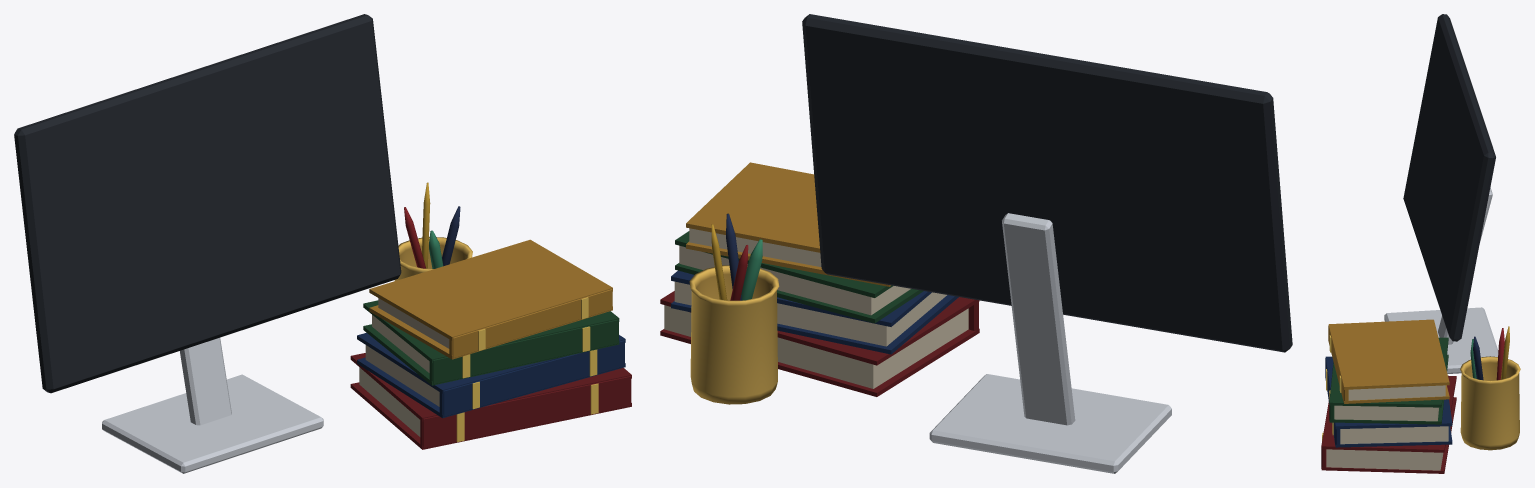
File: lib_desk_clutter_aaa-905adfbd7c6f.glb
The picture shows the model from 3 angles, left to right: view 1: azimuth 30°, elevation 25°; view 2: azimuth 150°, elevation 25°; view 3: azimuth 270°, elevation 25°; orthographic projection. The views are drawn at different scales.
Parts seen in each view (by area): view 1: Lib_Desk_Clutter; view 2: Lib_Desk_Clutter; view 3: Lib_Desk_Clutter.
Part boxes in pixels (left/top/right/bottom): Lib_Desk_Clutter: left=14, top=14, right=631, bottom=473; Lib_Desk_Clutter: left=660, top=14, right=1292, bottom=473; Lib_Desk_Clutter: left=1321, top=14, right=1520, bottom=473.
Bounding box in the file's own units: 0.6078 × 0.3705 × 0.256.
